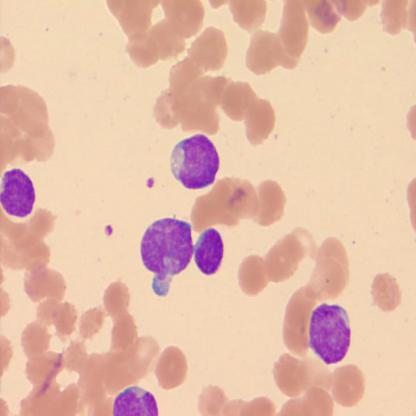Blast: (139, 217, 196, 298), (168, 131, 222, 192), (306, 301, 352, 366), (193, 227, 226, 278)
